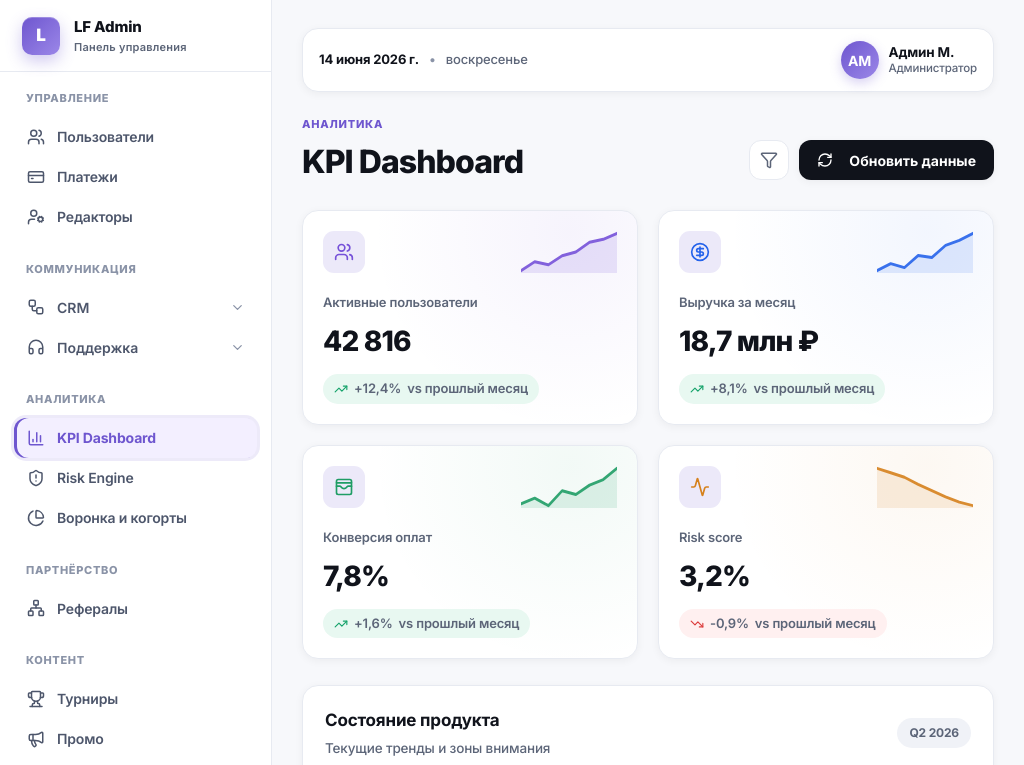
Test: AC-3: CRM and Support expand by click › CRM sub-items are hidden by default and shown after click
The width and height of the screenshot is (1024, 765).
Expected: the link "дашборд" is not shown
Click the button "CRM" at x=136, y=307, box x1=14 y1=287 x2=257 y2=327
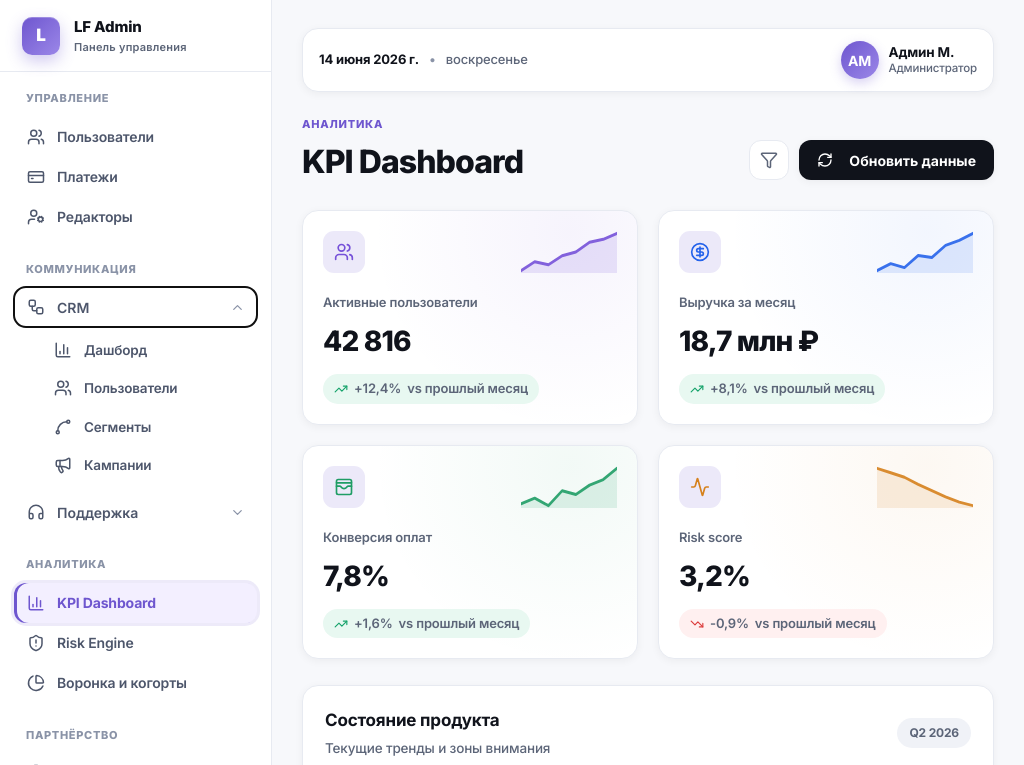
Result: the link "Дашборд" is shown at x1=54 y1=341 x2=147 y2=359
Result: the link "Сегменты" is shown at x1=54 y1=418 x2=151 y2=436
Result: the link "Кампании" is shown at x1=54 y1=456 x2=151 y2=474
